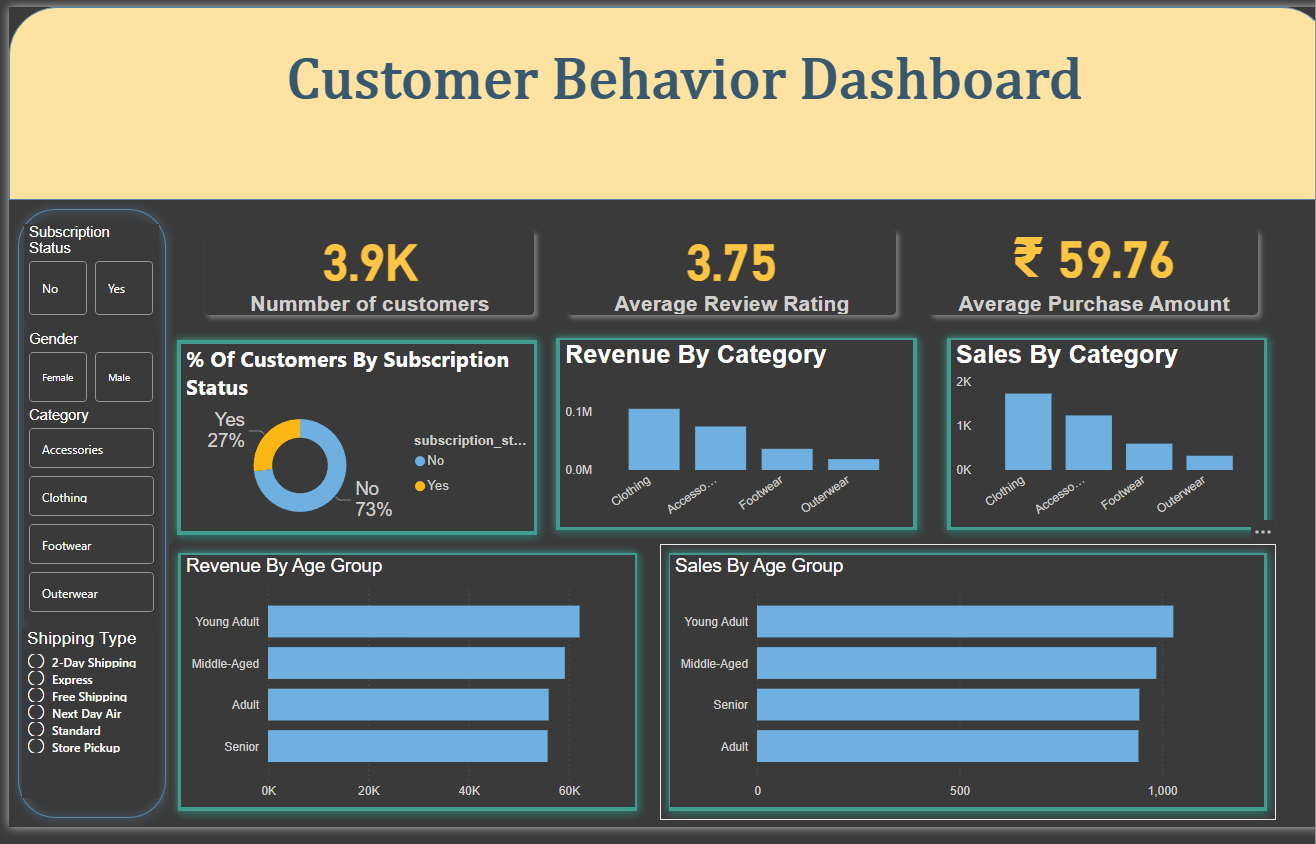

The page's visual inventory and layout, read from the dashboard file:
{"tool":"powerbi","page":{"name":"Page 1","canvas":[1500,820],"ordinal":0},"visuals":[{"type":"cardVisual","fields":{"Data":["public customer.Nummber of customers","public customer.Average Review Rating","public customer.Average Purchase Amount"]},"box":[165.7,192.9,1114.1,144.4],"z":0},{"type":"shape","box":[0,0,1321,193],"z":1000},{"type":"textbox","box":[186,36,978,181],"z":2000},{"type":"shape","box":[537.5,322,379,210],"z":3000},{"type":"shape","box":[929,322,338,210],"z":4000},{"type":"clusteredColumnChart","title":"Revenue By Category","fields":{"Y":["Sum(public customer.purchase_amount)"],"Category":["public customer.category"]},"box":[551,333,353,187],"z":5000},{"type":"clusteredColumnChart","title":"Sales By Category","fields":{"Y":["CountNonNull(public customer.customer_id)"],"Category":["public customer.category"]},"box":[942,333,313,187],"z":6000},{"type":"shape","box":[159,324,378,213],"z":7000},{"type":"donutChart","title":"% Of Customers By Subscription Status","fields":{"Category":["public customer.subscription_status"],"Y":["Count(public customer.customer_id)"]},"box":[172,337,353,187],"z":8000},{"type":"shape","box":[0,193,166,627],"z":9000},{"type":"advancedSlicerVisual","title":"Subscription Status","fields":{"Values":["public customer.subscription_status"]},"box":[15,217,135,96],"z":10000},{"type":"advancedSlicerVisual","title":"Gender","fields":{"Values":["public customer.gender"]},"box":[15,324,135,76],"z":11000},{"type":"advancedSlicerVisual","title":"Category","fields":{"Values":["public customer.category"]},"box":[15,400,135,213],"z":12000},{"type":"listSlicer","title":"Shipping Type","fields":{"Values":["public customer.shipping_type"]},"box":[13,621,137,170],"z":13000},{"type":"shape","box":[160,537,477,276],"z":14000},{"type":"clusteredBarChart","title":"Revenue By Age Group","fields":{"Y":["Sum(public customer.purchase_amount)"],"Category":["public customer.age_group"]},"box":[172,548,454,252],"z":15000},{"type":"shape","box":[651,537,616,276],"z":16000},{"type":"clusteredBarChart","title":"Sales By Age Group","fields":{"Y":["CountNonNull(public customer.customer_id)"],"Category":["public customer.age_group"]},"box":[661,548,594,252],"z":17000}]}

Visuals, with their boxes on the page's 1500x820 design canvas (x1, y1, x2, y2). These are canvas units, not pixel positions in the 1316x844 screenshot, which may show the page scaled, cropped or inside an application window:
cardVisual - public customer.Nummber of customers x public customer.Average Review Rating: 166:193:1280:337
shape: 0:0:1321:193
textbox: 186:36:1164:217
shape: 538:322:916:532
shape: 929:322:1267:532
"Revenue By Category" clusteredColumnChart: 551:333:904:520
"Sales By Category" clusteredColumnChart: 942:333:1255:520
shape: 159:324:537:537
"% Of Customers By Subscription Status" donutChart: 172:337:525:524
shape: 0:193:166:820
"Subscription Status" advancedSlicerVisual: 15:217:150:313
"Gender" advancedSlicerVisual: 15:324:150:400
"Category" advancedSlicerVisual: 15:400:150:613
"Shipping Type" listSlicer: 13:621:150:791
shape: 160:537:637:813
"Revenue By Age Group" clusteredBarChart: 172:548:626:800
shape: 651:537:1267:813
"Sales By Age Group" clusteredBarChart: 661:548:1255:800
